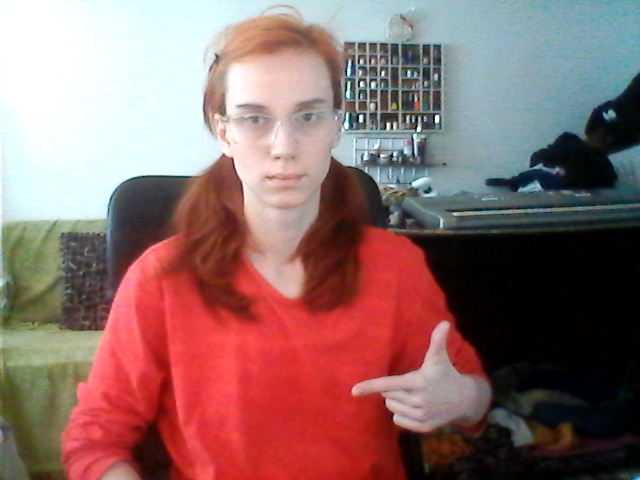dva_dve: (347, 319, 467, 436)
